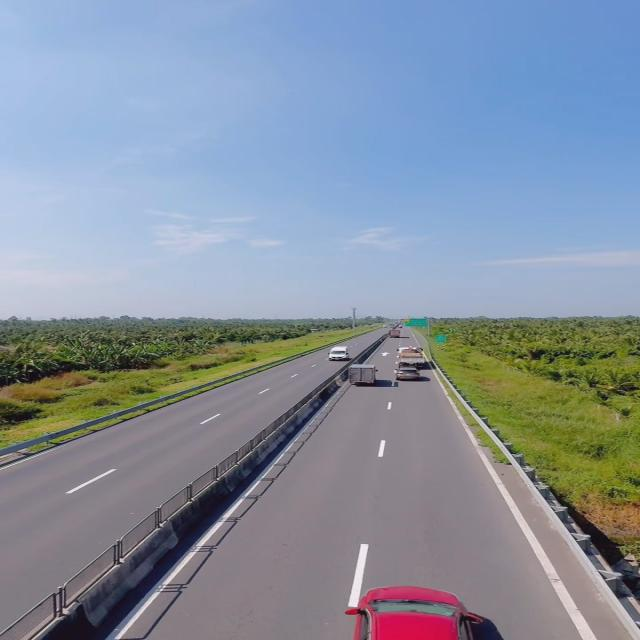car: (348, 583, 482, 640), (392, 364, 424, 382), (328, 345, 351, 363)
truck: (352, 361, 378, 386)
